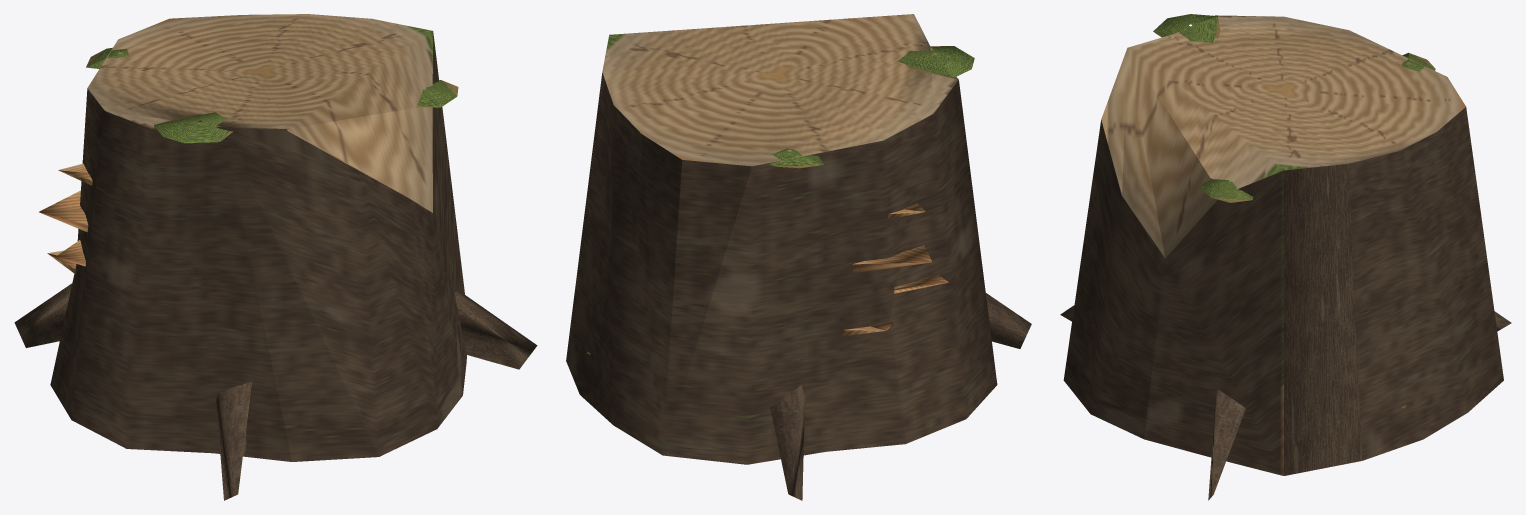
Rendered from prop_forest_stump_a_lod2.glb.
The picture shows the model from 3 angles, left to right: view 1: azimuth 30°, elevation 25°; view 2: azimuth 150°, elevation 25°; view 3: azimuth 270°, elevation 25°; orthographic projection. The views are drawn at different scales.
Visible parts, largest first — view 1: prop_forest_stump_a; view 2: prop_forest_stump_a; view 3: prop_forest_stump_a.
Boxes of the visible parts, x1,y1,x2,y2 form: prop_forest_stump_a: (14, 14, 537, 500); prop_forest_stump_a: (566, 14, 1031, 500); prop_forest_stump_a: (1060, 14, 1511, 500).
Bounding box in the file's own units: 0.8439 × 0.6349 × 0.8005.
1 material, 1 textured.
